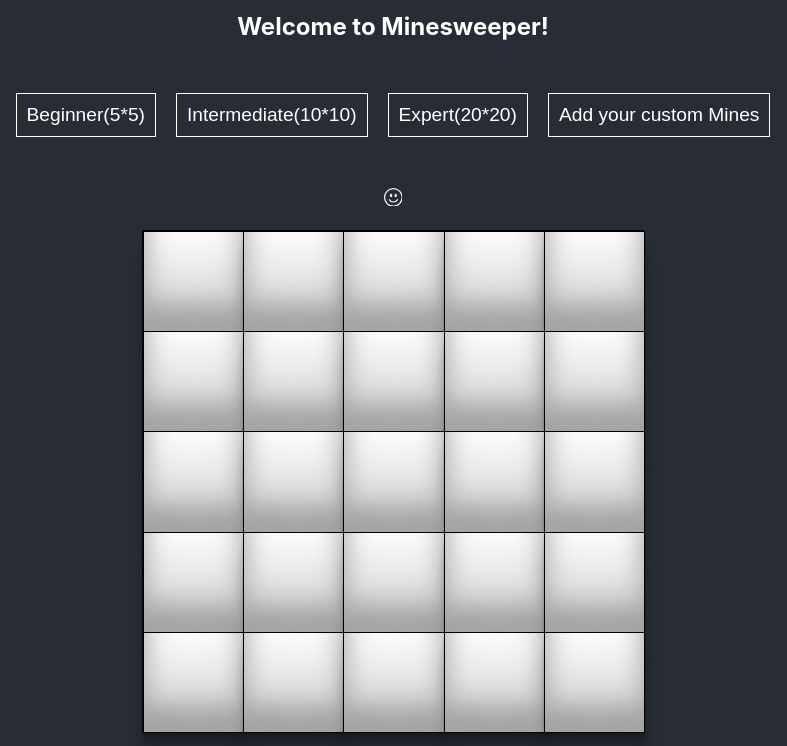
Test: Mine Sweeper › should render 10*10 board when Intermediate button click
Click the button "Intermediate(10*10)": point(272, 115) [176,93,368,137]
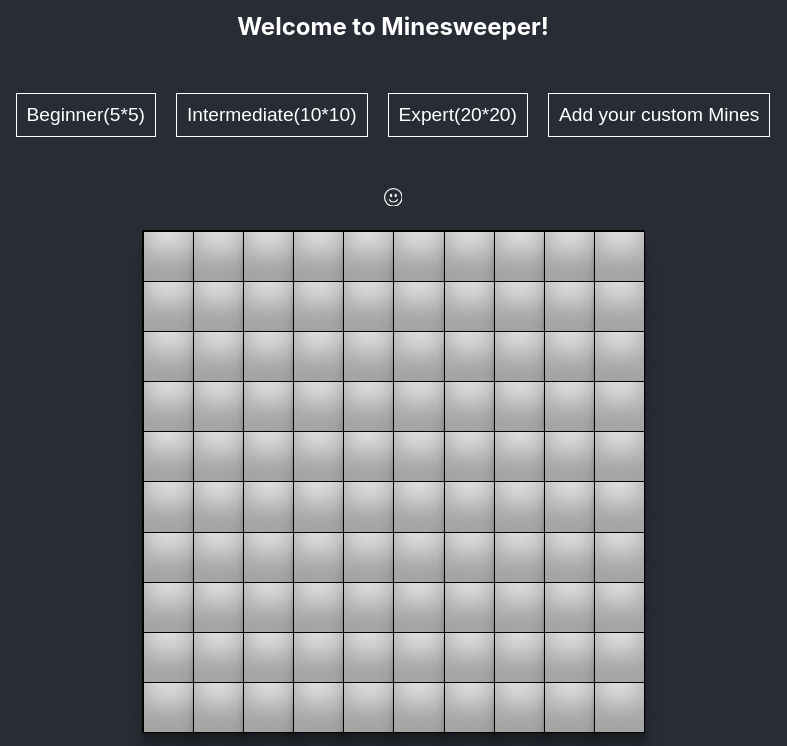
Expected: the number of elements with test id "board-cell" is 100
